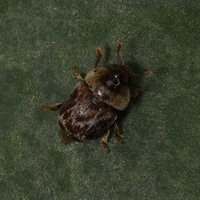insect: (41, 42, 151, 151)
